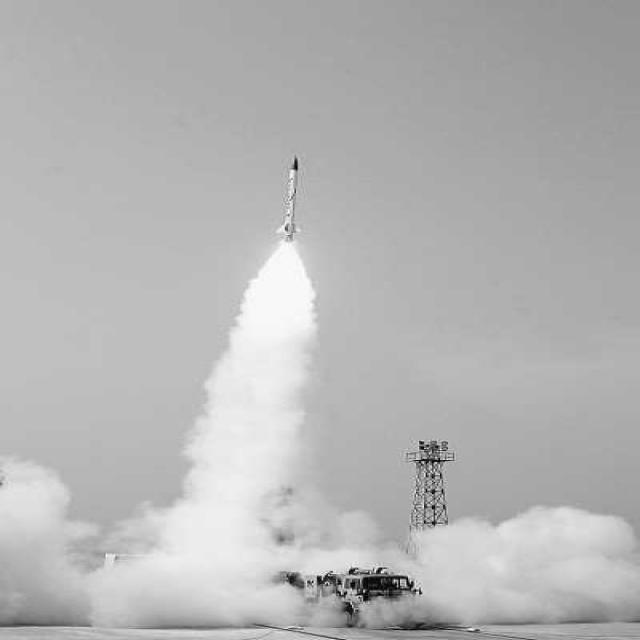missile: (276, 150, 305, 249)
